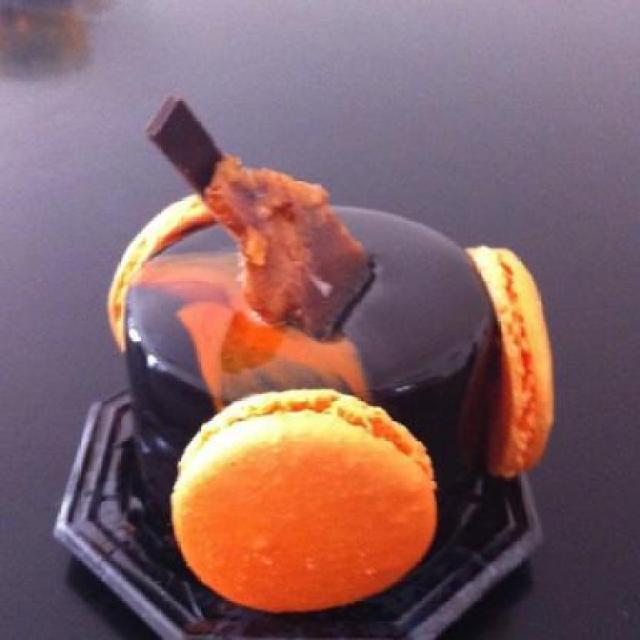Macaron: (168, 384, 450, 632), (468, 240, 572, 494)
